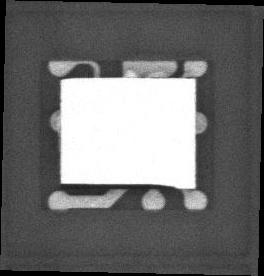DIE_INK: (59, 182, 174, 189)
